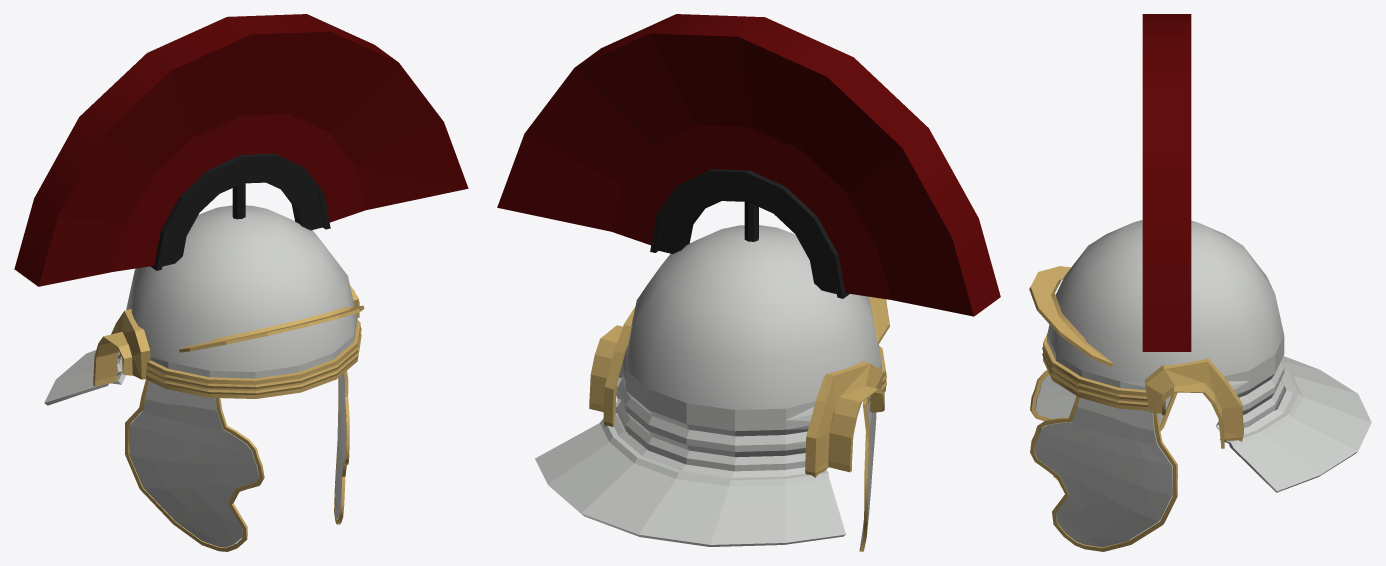
Rendered from SM_helmet_centurion.fbx.
3 views of the same model, side by side, from view 1: azimuth 30°, elevation 25°; view 2: azimuth 150°, elevation 25°; view 3: azimuth 270°, elevation 25° (orthographic). The views are drawn at different scales.
Visible parts, largest first — view 1: helmet_centurion; view 2: helmet_centurion; view 3: helmet_centurion.
Boxes of the visible parts, <box> form: helmet_centurion: <box>14,14,468,551</box>; helmet_centurion: <box>497,14,1000,551</box>; helmet_centurion: <box>1029,14,1371,551</box>.
Size of the model in its own units: 46.46 by 49.63 by 31.83.
